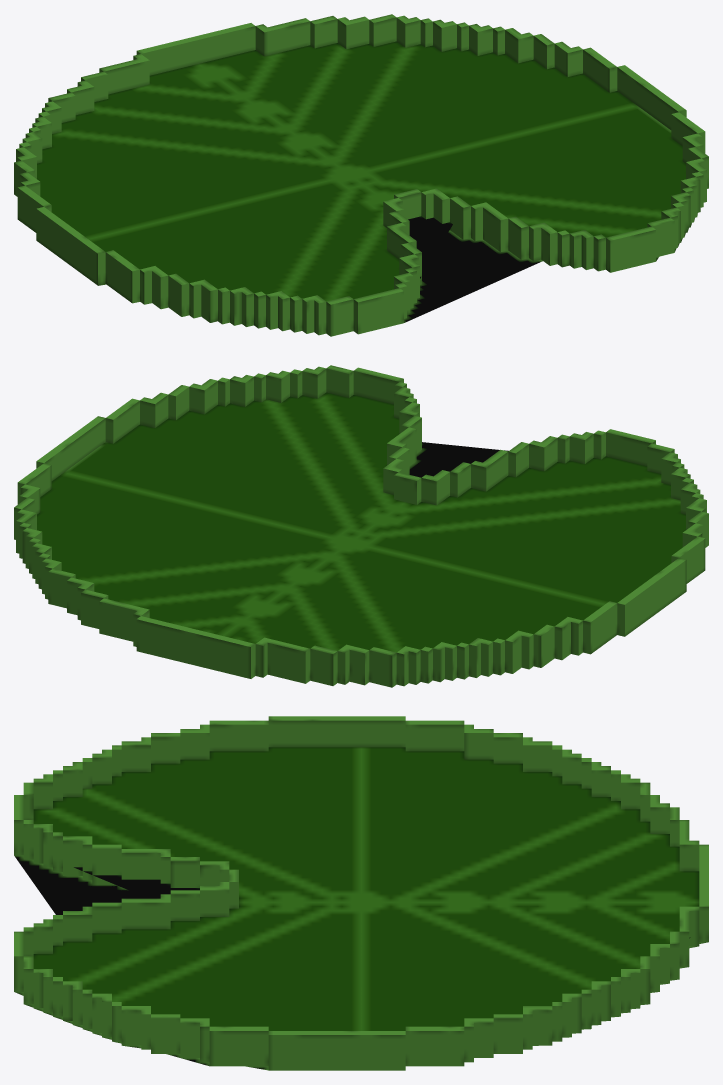
File: VitRegiaGrande.fbx
3 renders of one model, top to bottom at view 1: azimuth 30°, elevation 25°; view 2: azimuth 150°, elevation 25°; view 3: azimuth 270°, elevation 25°, orthographic. The views are drawn at different scales.
Parts seen in each view (by area): view 1: Vegetacao-4; view 2: Vegetacao-4; view 3: Vegetacao-4.
Boxes of the visible parts, left/top/right/bottom form: Vegetacao-4: left=14, top=14, right=708, bottom=336; Vegetacao-4: left=14, top=365, right=708, bottom=687; Vegetacao-4: left=14, top=716, right=708, bottom=1070.
Bounding box in the file's own units: 770 × 40 × 710.
